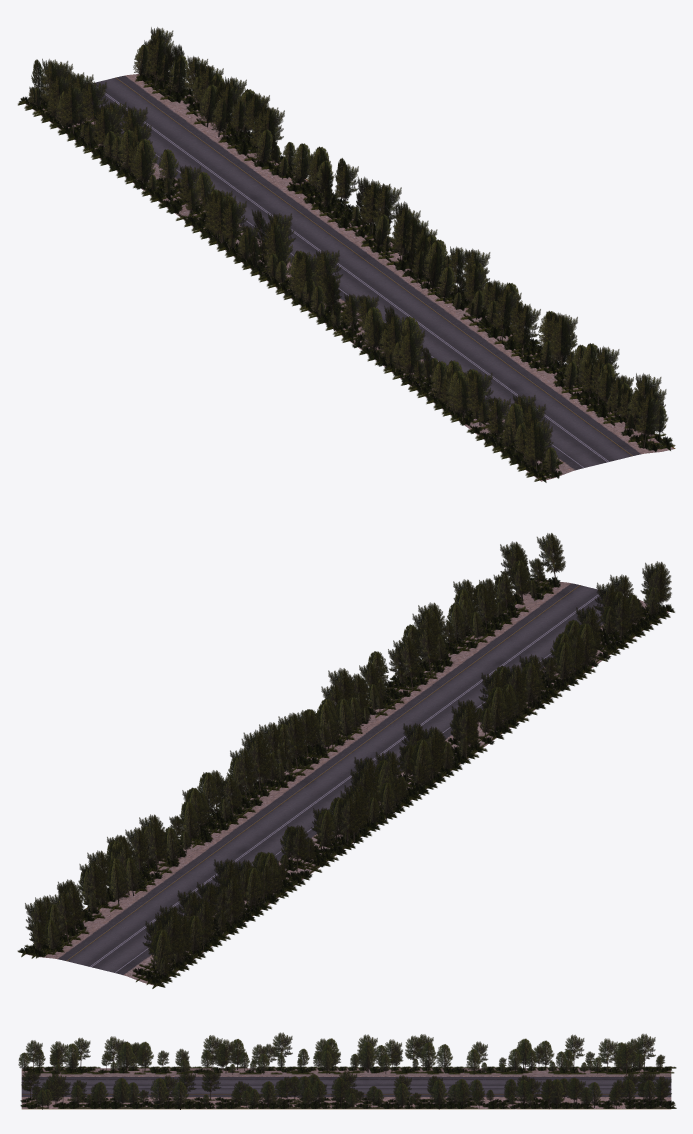
File: road.glb
3 renders of one model, top to bottom at view 1: azimuth 30°, elevation 25°; view 2: azimuth 150°, elevation 25°; view 3: azimuth 270°, elevation 25°, orthographic. The views are drawn at different scales.
Visible parts, largest first — view 1: tq_US_Country, tree1.129, tree1.113, tree1.003, tree1.085, tree1.095, tree1.008, tree1.031, tree1.110, tree1.024, tree1.131, tree1.132 (+9 smaller); view 2: tq_US_Country, tree1.105, tree1.132, tree1.113, tree1.043, tree1.078, tree1.149, tree1.024, tree1.131, tree2.036, tree1.083, tree1.009 (+5 smaller); view 3: tq_US_Country, tree1.027, tree1.035, tree1.105, tree1.097, tree2.001, tree2.131, tree2.085, tree1.085, tree1.024, tree1.008, tree2.126 (+62 smaller).
Part boxes in pixels (x1,y1,x2,y2): tq_US_Country: [25, 74, 675, 481]; tree1.129: [548, 313, 577, 368]; tree1.113: [634, 393, 663, 448]; tree1.003: [263, 221, 292, 262]; tree1.085: [466, 371, 494, 425]; tree1.095: [399, 328, 425, 378]; tree1.008: [220, 199, 248, 246]; tree1.031: [60, 84, 86, 134]; tree1.110: [294, 251, 321, 300]; tree1.024: [93, 104, 121, 155]; tree1.131: [513, 304, 540, 356]; tree1.132: [492, 288, 521, 340]; tq_US_Country: [26, 580, 669, 986]; tree1.105: [450, 704, 479, 758]; tree1.132: [393, 637, 422, 690]; tree1.113: [536, 533, 565, 586]; tree1.043: [241, 735, 271, 791]; tree1.078: [643, 561, 671, 611]; tree1.149: [278, 713, 307, 769]; tree1.024: [217, 875, 244, 925]; tree1.131: [412, 625, 440, 674]; tree2.036: [148, 929, 174, 974]; tree1.083: [608, 594, 633, 639]; tree1.009: [334, 796, 359, 844]; tq_US_Country: [21, 1068, 671, 1109]; tree1.027: [598, 1038, 617, 1072]; tree1.035: [635, 1034, 655, 1068]; tree1.105: [272, 1032, 292, 1057]; tree1.097: [217, 1039, 236, 1073]; tree2.001: [358, 1041, 376, 1072]; tree2.131: [150, 1078, 169, 1106]; tree2.085: [117, 1042, 135, 1070]; tree1.085: [103, 1036, 123, 1061]; tree1.024: [565, 1034, 584, 1067]; tree1.008: [405, 1035, 423, 1067]; tree2.126: [112, 1077, 130, 1104].
Bounding box in the file's own units: 20.63 × 9.2 × 113.
5 materials, 5 textured.
